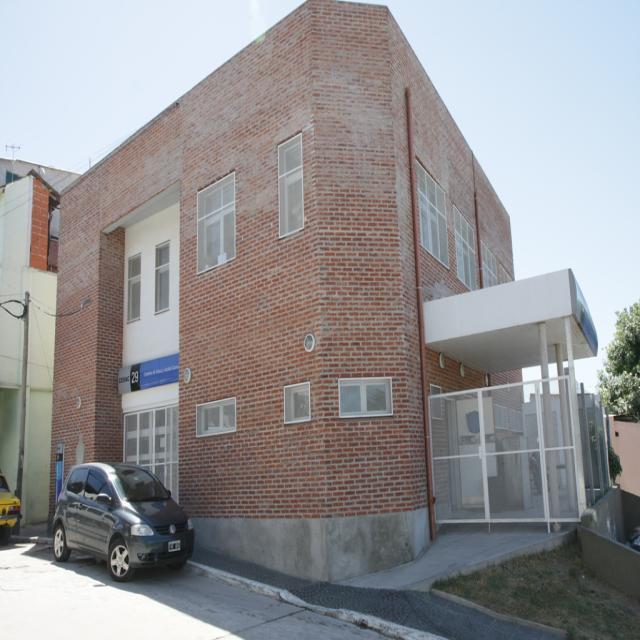car: (45, 458, 193, 588)
